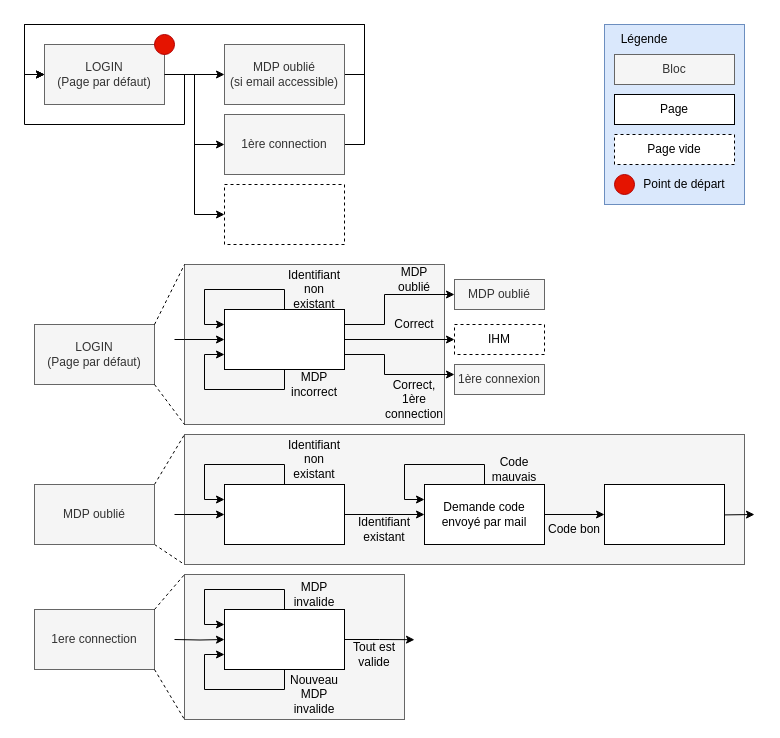
This 780x738 diagram has some shape labels left out. The centre of each missing label's shape, as x and y in pixels:
"Changement de mot de passe" belongs at point (664, 514).
"Demande identifiant" belongs at point (284, 514).
"Demande LOGIN, MDP Proposition MDP oublié" belongs at point (284, 339).
"Demande MDP, nouveau MDP, confirmation MDP" belongs at point (284, 639).
"IHM (page blanche)" belongs at point (284, 214).
